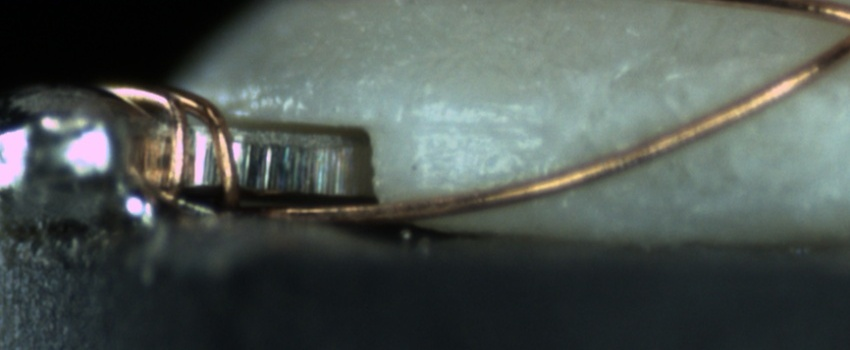DL: (408, 93, 546, 157)
TE: (98, 74, 250, 227)
